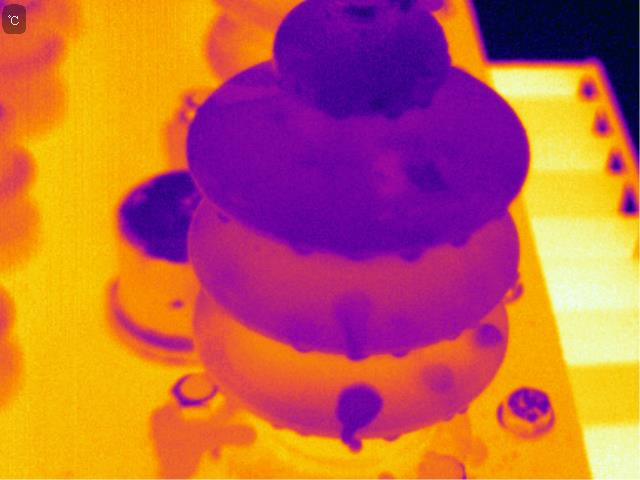Water: (334, 381, 382, 459), (329, 295, 381, 365), (395, 155, 451, 198), (468, 317, 513, 355), (390, 240, 437, 275), (446, 223, 480, 258), (421, 363, 457, 396), (314, 94, 355, 121), (363, 96, 403, 121), (338, 243, 379, 265), (288, 327, 316, 359), (384, 342, 414, 365), (406, 89, 436, 111), (289, 238, 321, 258), (292, 418, 312, 441), (266, 415, 285, 435), (384, 430, 405, 446), (444, 328, 462, 346), (455, 400, 471, 417), (440, 410, 454, 424)
